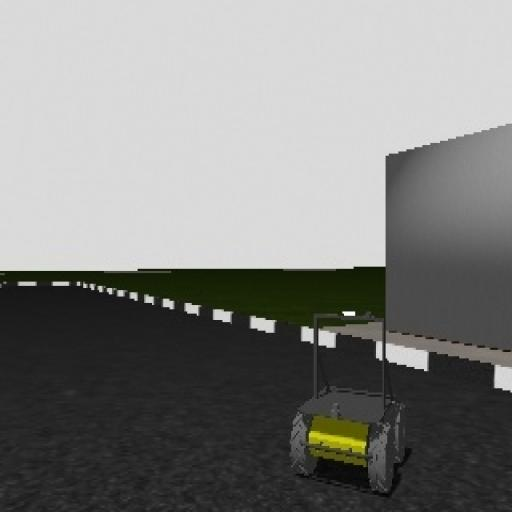huskya200: (286, 294, 413, 497)
